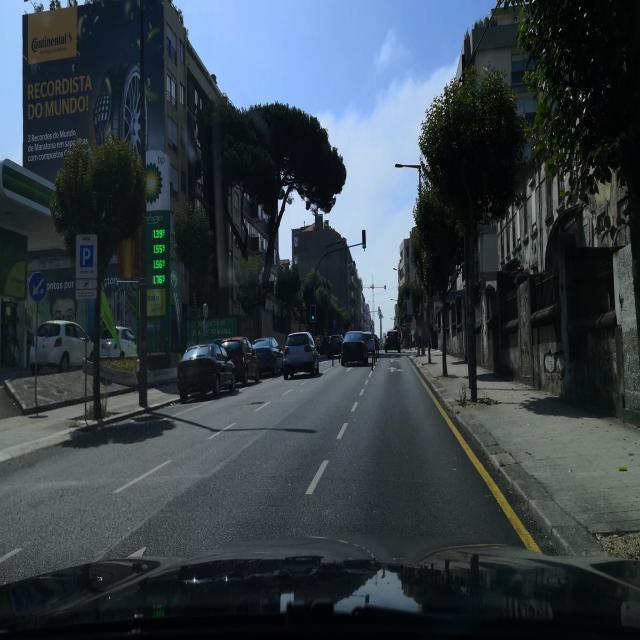car: (177, 340, 236, 400), (30, 318, 95, 370), (220, 334, 260, 385), (282, 329, 320, 377), (252, 336, 284, 376), (100, 326, 138, 358), (341, 329, 369, 366), (384, 327, 402, 354), (362, 330, 377, 359), (326, 333, 342, 358)
